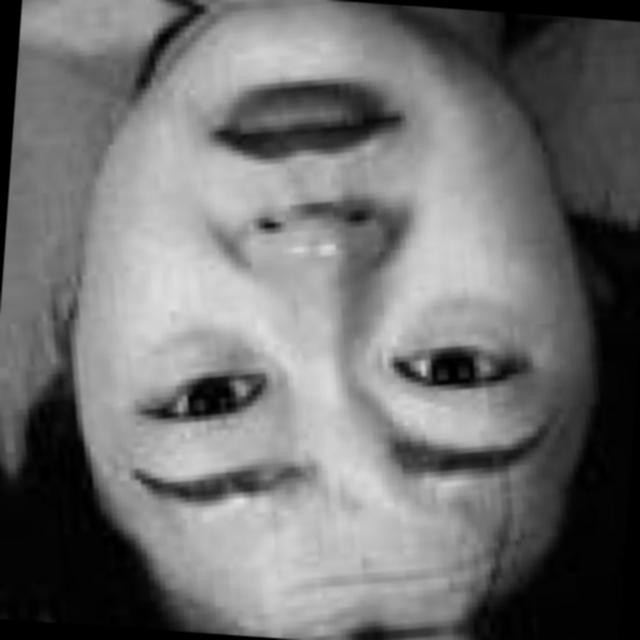fear: (73, 0, 610, 613)
